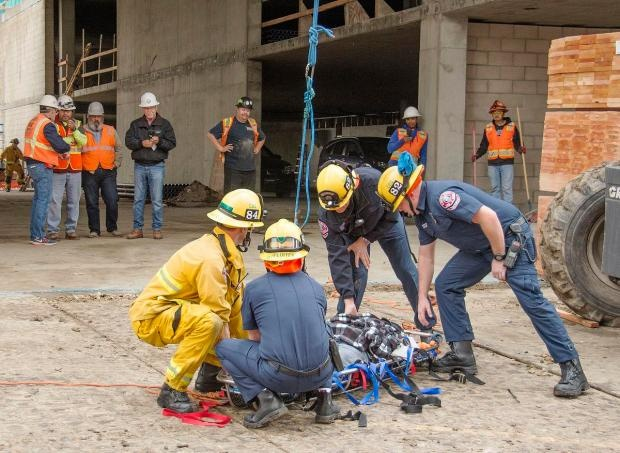red: (488, 100, 506, 123)
white: (138, 92, 158, 118), (38, 94, 58, 118), (86, 100, 104, 126), (57, 95, 74, 120), (402, 105, 419, 129)
yellow: (213, 185, 263, 245), (259, 220, 308, 272), (378, 165, 423, 215), (315, 159, 354, 213)
